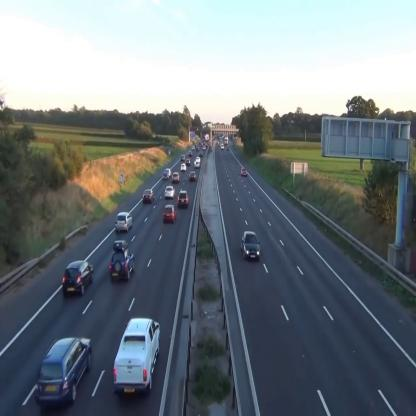car: (35, 336, 92, 404), (114, 316, 161, 394), (63, 260, 93, 298), (110, 250, 135, 280), (241, 231, 261, 260), (115, 211, 133, 232), (164, 203, 176, 222), (143, 188, 155, 203), (178, 191, 188, 207), (165, 186, 175, 199), (172, 172, 180, 180), (241, 167, 248, 176), (189, 172, 196, 180), (165, 167, 171, 176), (181, 163, 187, 172), (194, 161, 199, 168), (186, 158, 190, 164), (181, 155, 185, 161), (196, 156, 200, 161)
